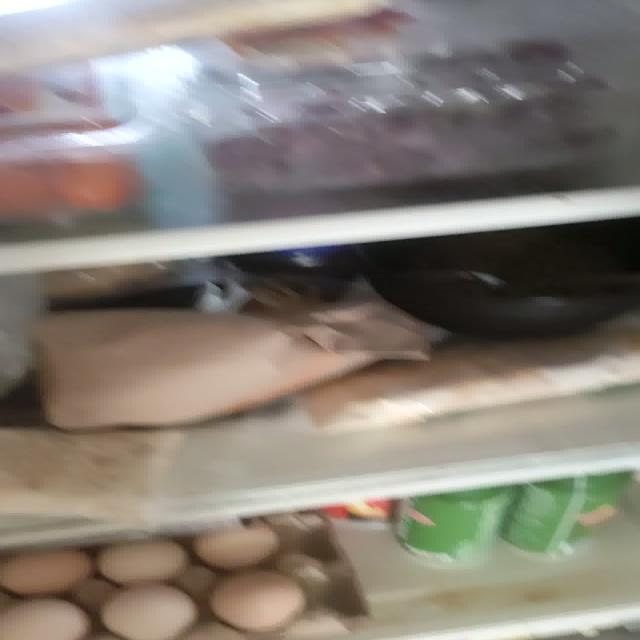egg: (0, 514, 372, 640)
